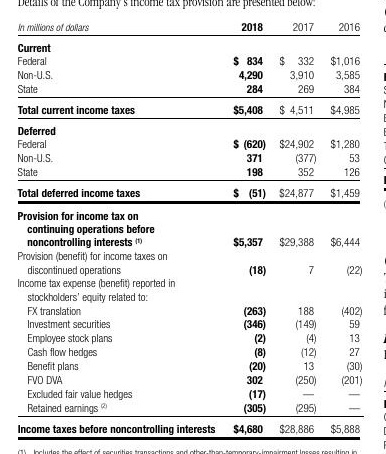table: (0, 0, 386, 454)
